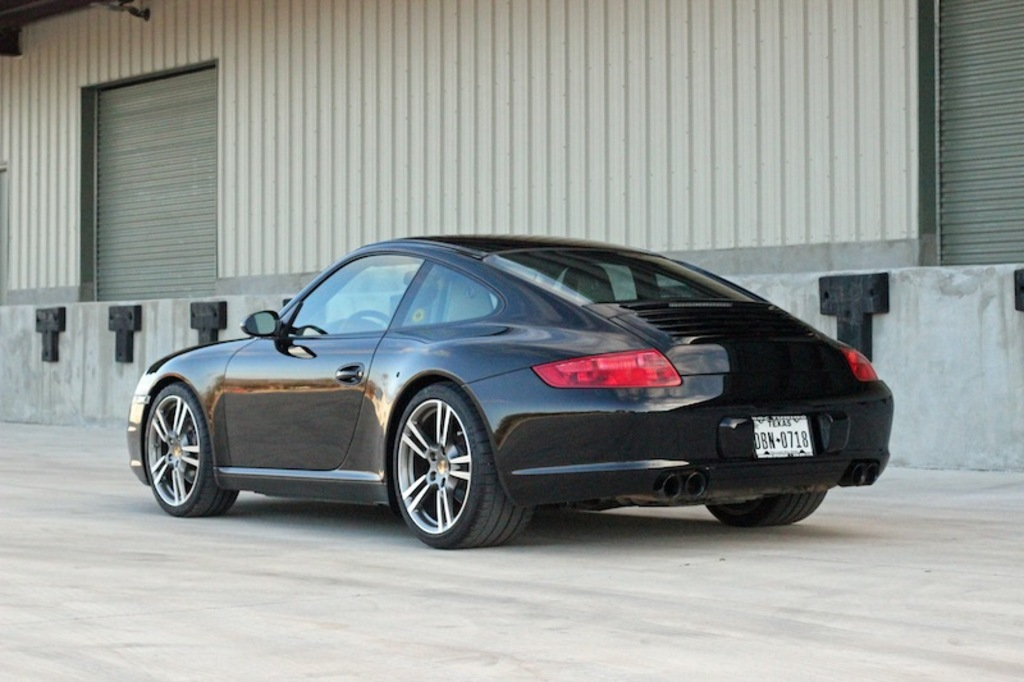car: (87, 204, 906, 574)
